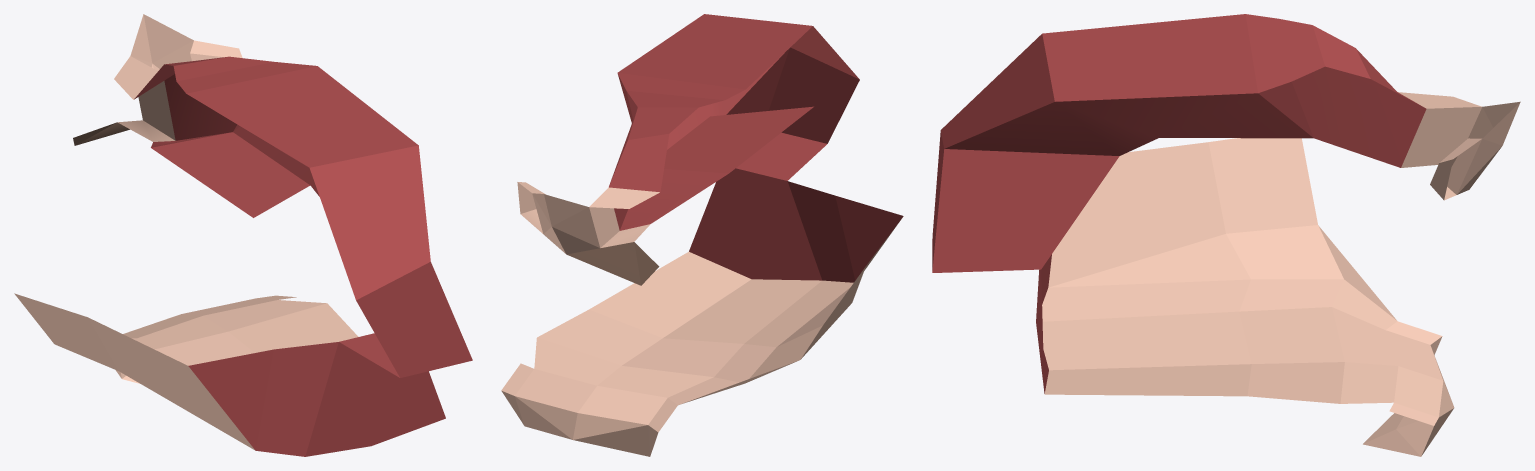
3 renders of one model, left to right at view 1: azimuth 30°, elevation 25°; view 2: azimuth 150°, elevation 25°; view 3: azimuth 270°, elevation 25°, orthographic. The views are drawn at different scales.
Parts seen in each view (by area): view 1: headpart2:Head23:polySurface1; view 2: headpart2:Head23:polySurface1; view 3: headpart2:Head23:polySurface1.
Part boxes in pixels (x1,y1,x2,y2): headpart2:Head23:polySurface1: (14, 14, 472, 456); headpart2:Head23:polySurface1: (501, 14, 903, 456); headpart2:Head23:polySurface1: (932, 14, 1520, 456).
Bounding box in the file's own units: 0.3625 × 0.3904 × 0.5414.
